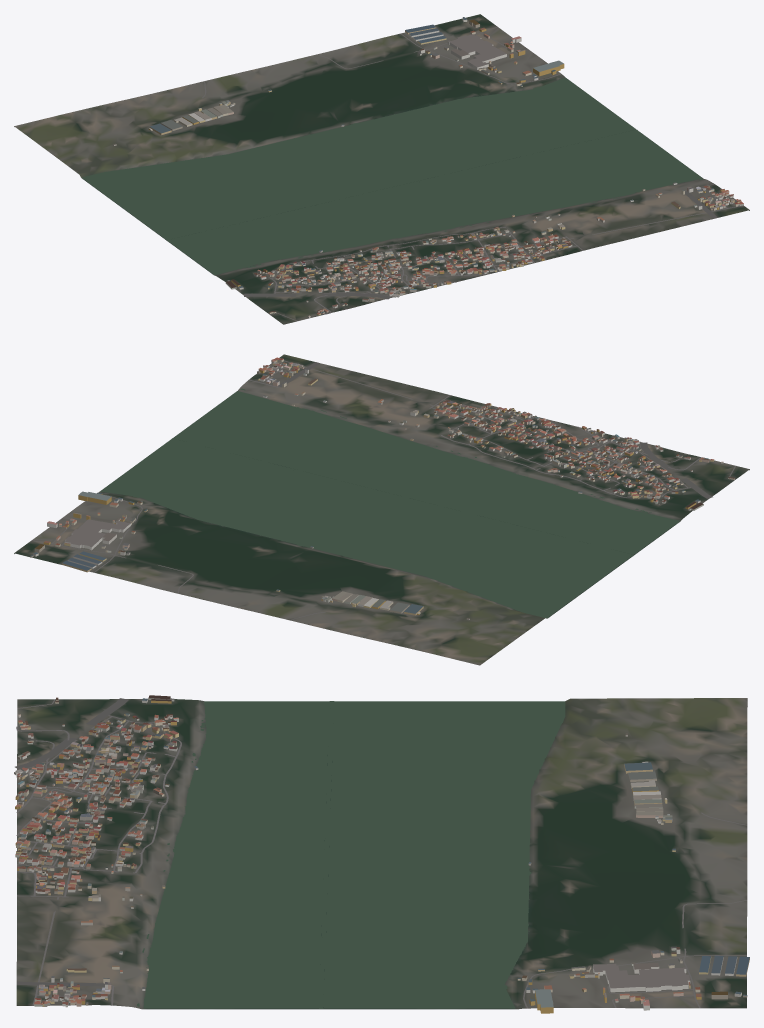
3 renders of one model, top to bottom at view 1: azimuth 30°, elevation 25°; view 2: azimuth 150°, elevation 25°; view 3: azimuth 270°, elevation 25°, orthographic. The views are drawn at different scales.
Parts seen in each view (by area): view 1: water, ground, buildings, roads; view 2: water, ground, buildings, roads; view 3: water, ground, buildings, roads.
Part boxes in pixels (x1,y1,x2,y2): water: (82, 77, 703, 274); ground: (14, 14, 749, 324); buildings: (113, 17, 743, 317); roads: (202, 26, 743, 321); water: (100, 388, 679, 618); ground: (14, 354, 749, 665); buildings: (30, 357, 734, 619); roads: (31, 360, 735, 620); water: (136, 701, 565, 1008); ground: (16, 698, 747, 1009); buildings: (14, 695, 749, 1013); roads: (15, 698, 747, 1008).
Size of the model in its own units: 1431 by 21.36 by 1413.
